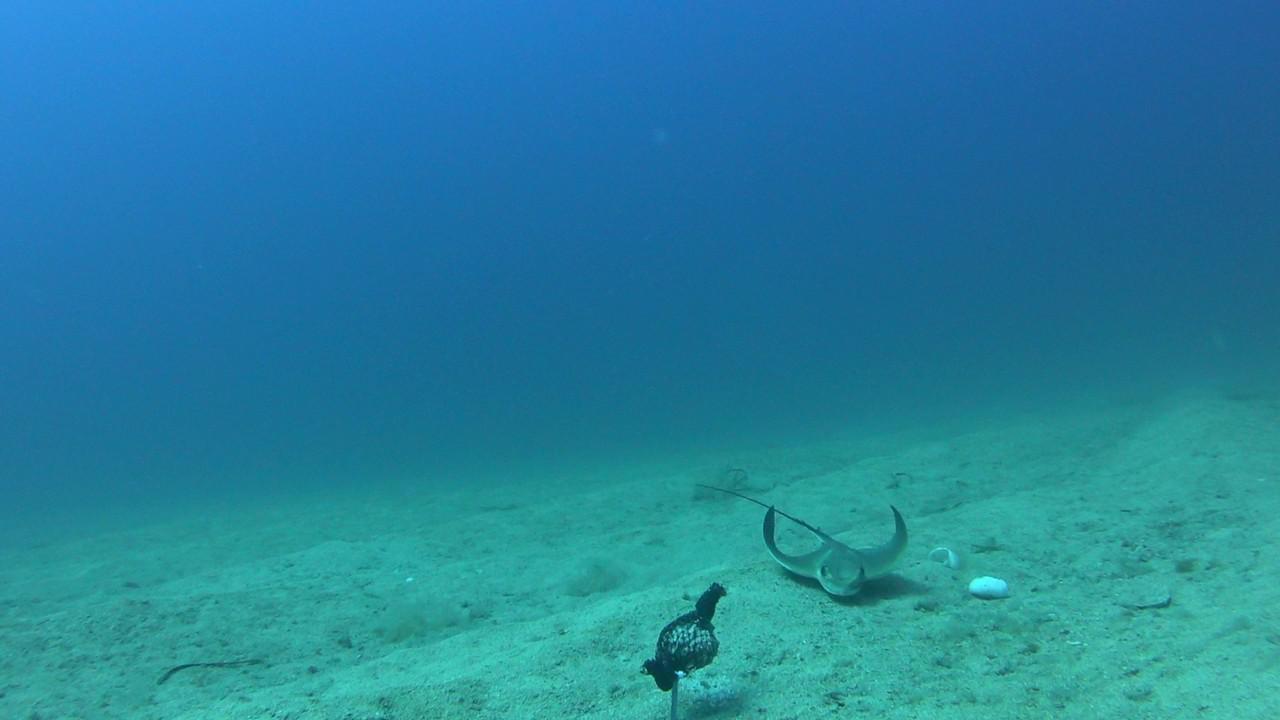myliobatis: (683, 474, 914, 605)
